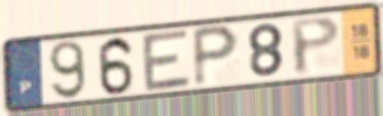6: (96, 34, 136, 97)
8: (246, 22, 286, 80)
9: (46, 39, 88, 101)
E: (139, 26, 194, 94)
P: (288, 14, 343, 78), (190, 23, 242, 90)
